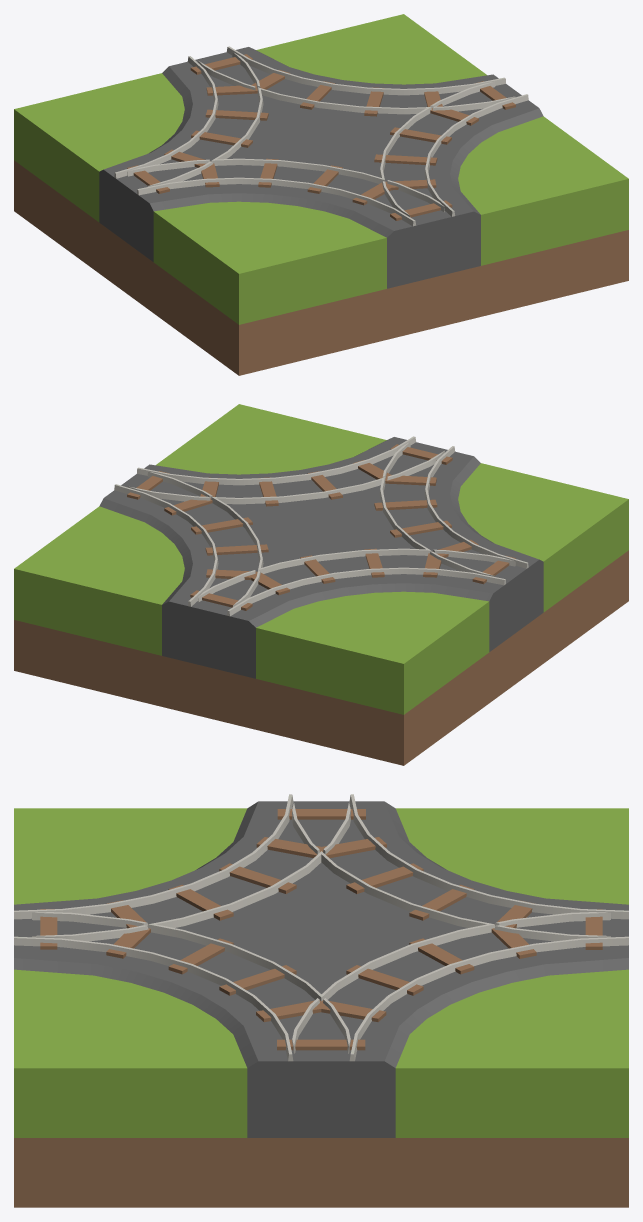
Rendered from rail_cross.fbx.
3 views of the same model, one above another, from view 1: azimuth 30°, elevation 25°; view 2: azimuth 150°, elevation 25°; view 3: azimuth 270°, elevation 25° (orthographic). The views are drawn at different scales.
Parts seen in each view (by area): view 1: landscape-track-1-diamond; view 2: landscape-track-1-diamond; view 3: landscape-track-1-diamond.
Boxes of the visible parts, <box> form: landscape-track-1-diamond: <box>14,14,628,375</box>; landscape-track-1-diamond: <box>14,404,628,765</box>; landscape-track-1-diamond: <box>14,794,628,1207</box>.
Bounding box in the file's own units: 8 × 2.2 × 8.
1 material, 1 textured.
